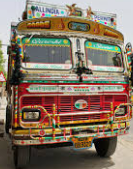truck: (4, 1, 129, 169)
